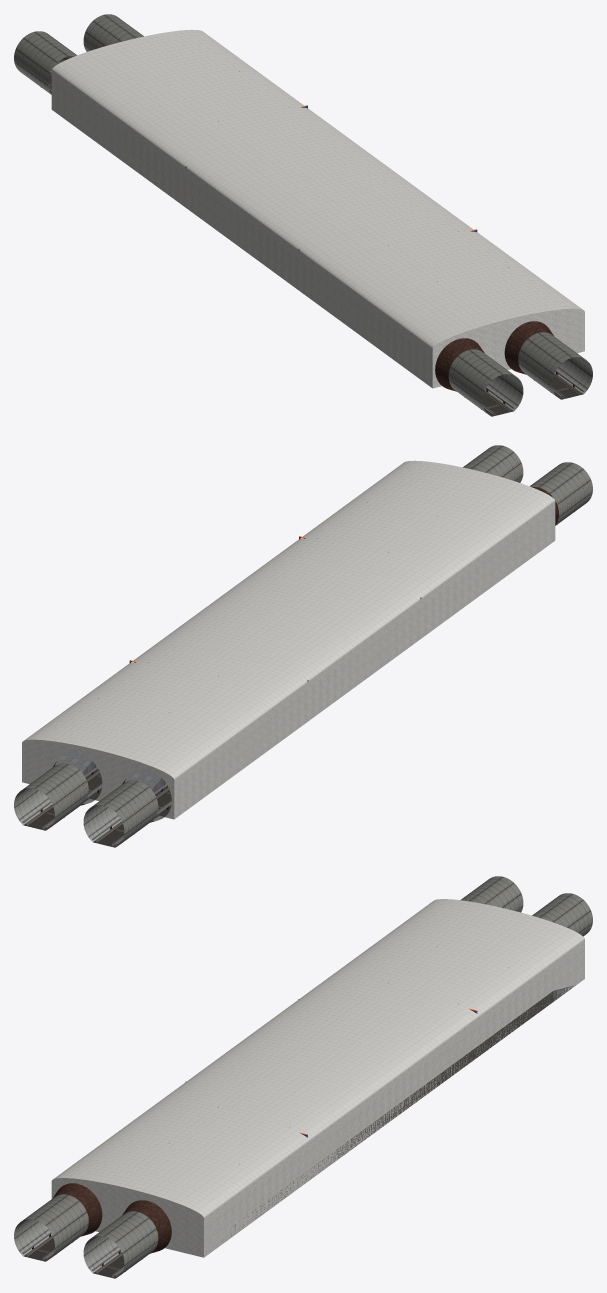
File: station_buchanan-street.glb
The picture shows the model from 3 angles, top to bottom: view 1: azimuth 30°, elevation 25°; view 2: azimuth 150°, elevation 25°; view 3: azimuth 330°, elevation 25°; orthographic projection.
Visible parts, largest first — view 1: hall_shell, end_walls; view 2: hall_shell, end_walls; view 3: hall_shell, end_walls.
Part boxes in pixels (bbox=[...]): hall_shell: bbox=[41, 29, 584, 415]; end_walls: bbox=[14, 14, 592, 416]; hall_shell: bbox=[22, 460, 557, 846]; end_walls: bbox=[14, 445, 592, 847]; hall_shell: bbox=[22, 899, 584, 1277]; end_walls: bbox=[14, 876, 592, 1278].
Bounding box in the file's own units: 12.47 × 4.58 × 66.4.
Materials: 32 (20 with a texture image).
